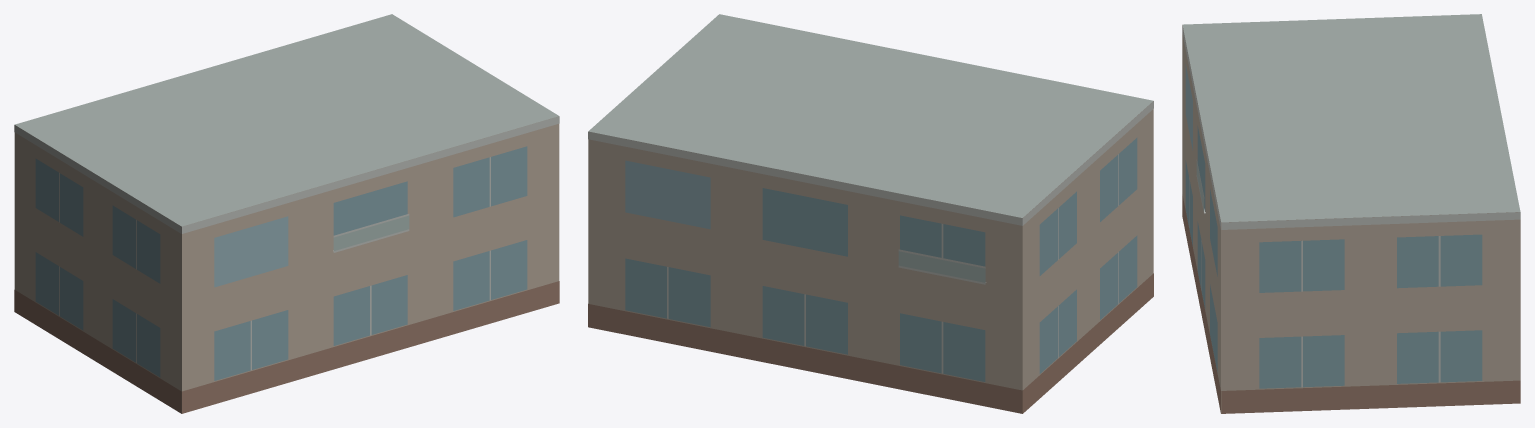
Rendered from survey-upis-32697537.glb.
3 views of the same model, side by side, from view 1: azimuth 30°, elevation 25°; view 2: azimuth 150°, elevation 25°; view 3: azimuth 270°, elevation 25° (orthographic). The views are drawn at different scales.
Visible parts, largest first — view 1: survey-upis-32697537.tmp; view 2: survey-upis-32697537.tmp; view 3: survey-upis-32697537.tmp.
Part boxes in pixels (x1,y1,x2,y2): survey-upis-32697537.tmp: (14,14,559,413); survey-upis-32697537.tmp: (588,14,1153,413); survey-upis-32697537.tmp: (1182,14,1520,413).
Bounding box in the file's own units: 14.25 × 6.1 × 9.77.
